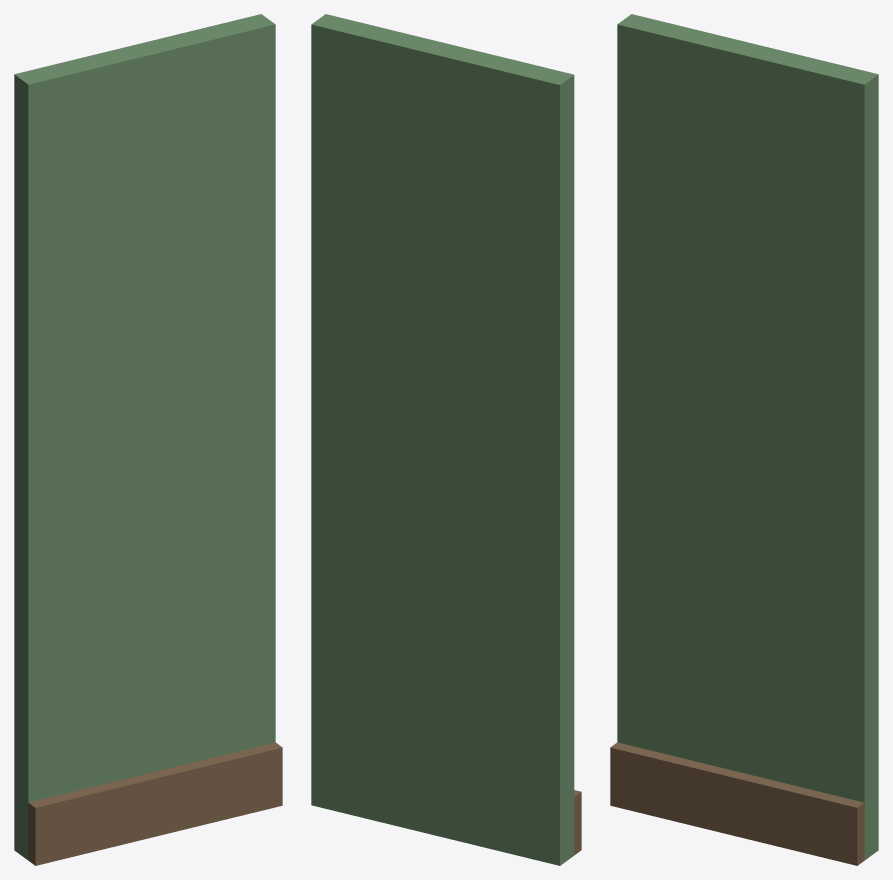
Rendered from Mesh_WallBaseboard_F1.fbx.
The picture shows the model from 3 angles, left to right: view 1: azimuth 30°, elevation 25°; view 2: azimuth 150°, elevation 25°; view 3: azimuth 330°, elevation 25°; orthographic projection.
Visible parts, largest first — view 1: Mesh_WallBaseboard_F1; view 2: Mesh_WallBaseboard_F1; view 3: Mesh_WallBaseboard_F1.
Boxes of the visible parts, x1,y1,x2,y2 form: Mesh_WallBaseboard_F1: [14, 14, 282, 865]; Mesh_WallBaseboard_F1: [311, 14, 581, 865]; Mesh_WallBaseboard_F1: [610, 14, 878, 865].
Bounding box in the file's own units: 1 × 3 × 0.15.
